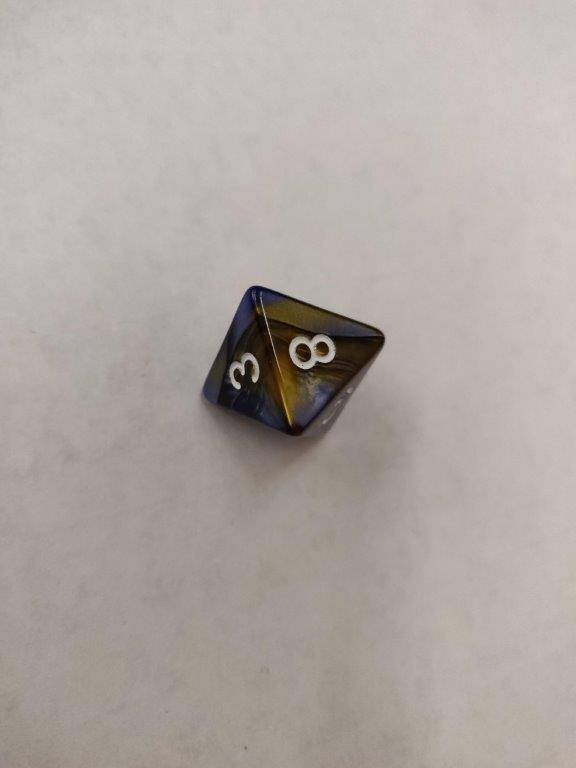d8-8: (192, 283, 386, 441)
